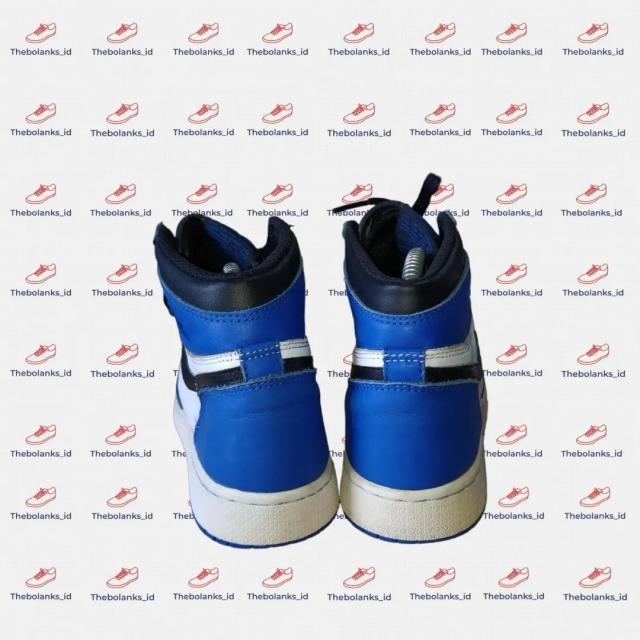nike fake jordan 1: (165, 214, 342, 552), (338, 205, 488, 547)
